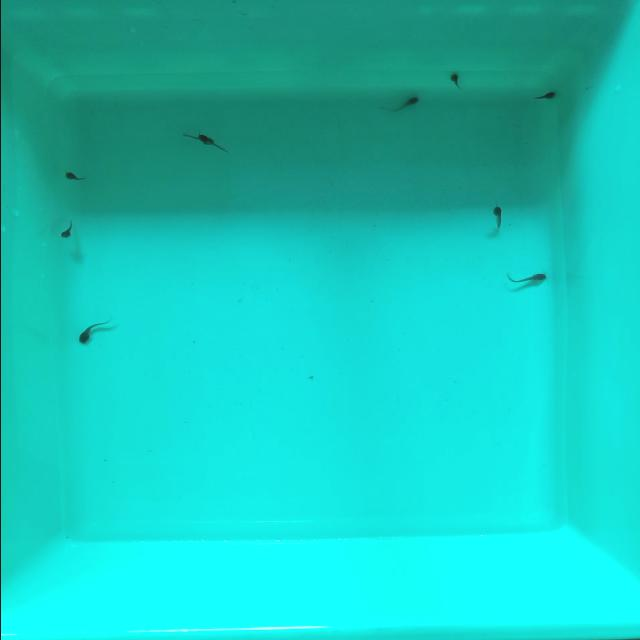lele: (69, 312, 114, 348), (382, 93, 421, 116), (194, 133, 229, 154), (505, 271, 548, 285), (175, 131, 214, 146), (444, 70, 464, 92), (530, 91, 557, 103), (491, 204, 503, 229), (58, 218, 72, 238), (62, 171, 87, 182)
